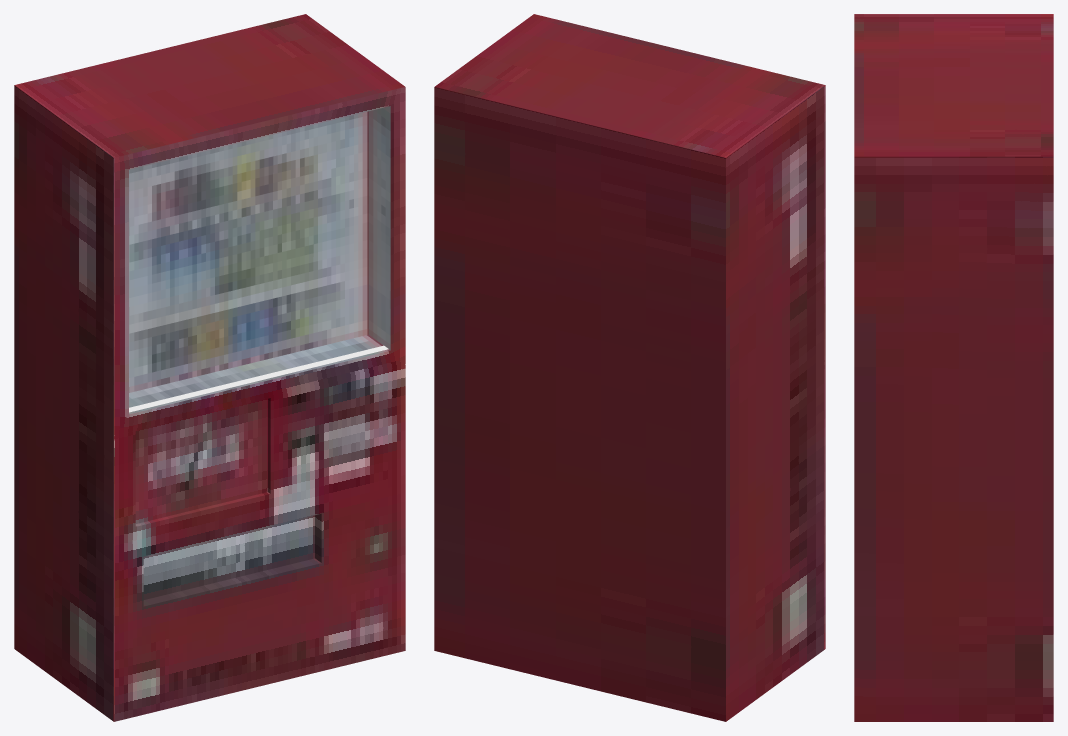
File: vending_machine_-_ps1_low_poly.glb
3 renders of one model, left to right at view 1: azimuth 30°, elevation 25°; view 2: azimuth 150°, elevation 25°; view 3: azimuth 270°, elevation 25°, orthographic.
Visible parts, largest first — view 1: Plane; view 2: Plane; view 3: Plane.
Part boxes in pixels (x1,y1,x2,y2): Plane: (14,14,405,721); Plane: (434,14,825,721); Plane: (854,14,1053,721).
Bounding box in the file's own units: 1.37 × 2.53 × 0.8084.
3 materials, 1 textured.
